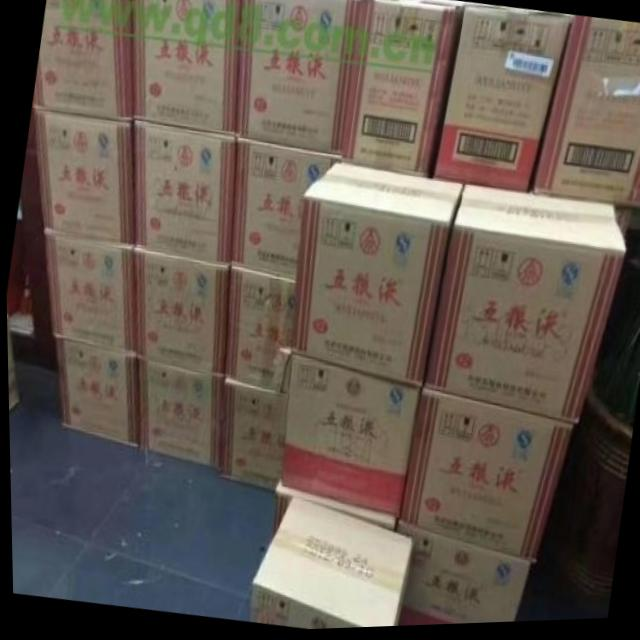box: (420, 188, 625, 430), (288, 163, 466, 393), (397, 391, 571, 565), (433, 7, 573, 194), (279, 355, 420, 521), (339, 0, 463, 180), (246, 497, 410, 631), (532, 19, 640, 214), (235, 0, 363, 158), (228, 140, 341, 283), (132, 119, 235, 268), (133, 0, 241, 138), (394, 521, 530, 629), (31, 108, 132, 249), (31, 0, 133, 125), (132, 249, 230, 376), (45, 231, 136, 358), (136, 356, 222, 472), (52, 340, 136, 447), (222, 270, 293, 396), (217, 378, 285, 493), (271, 481, 394, 542), (6, 324, 19, 411)
